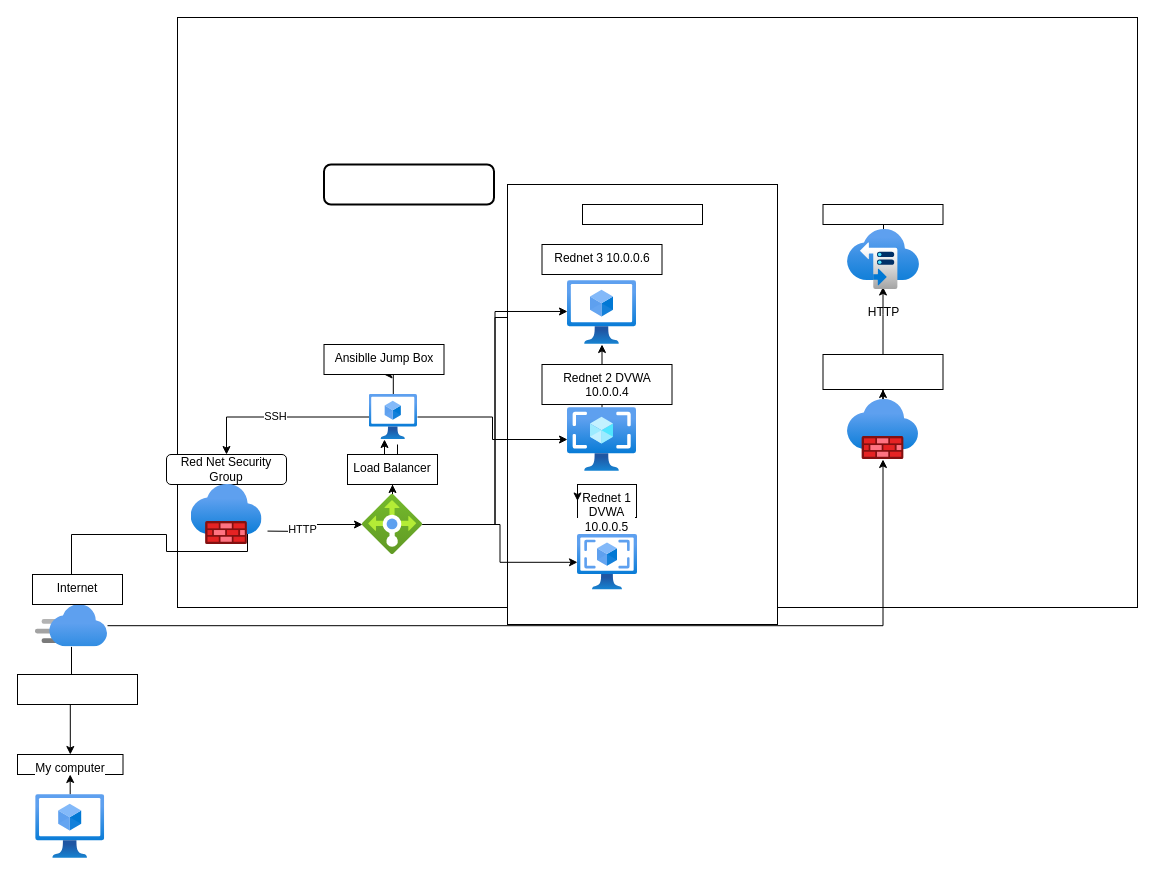
Some shapes in this 1155 by 876 pixel diagram are drawn without their labels. The centre of each missing label's shape, as x and y in pixels:
Azure Virtual Network 10.0.0.0/16: the point at 408,184
Azure Virtual Subnet 10.0.0.0/16: the point at 642,214
ELK: the point at 882,214
Rednet Security Group 2: the point at 882,372
SSH HTTP: the point at 77,689
